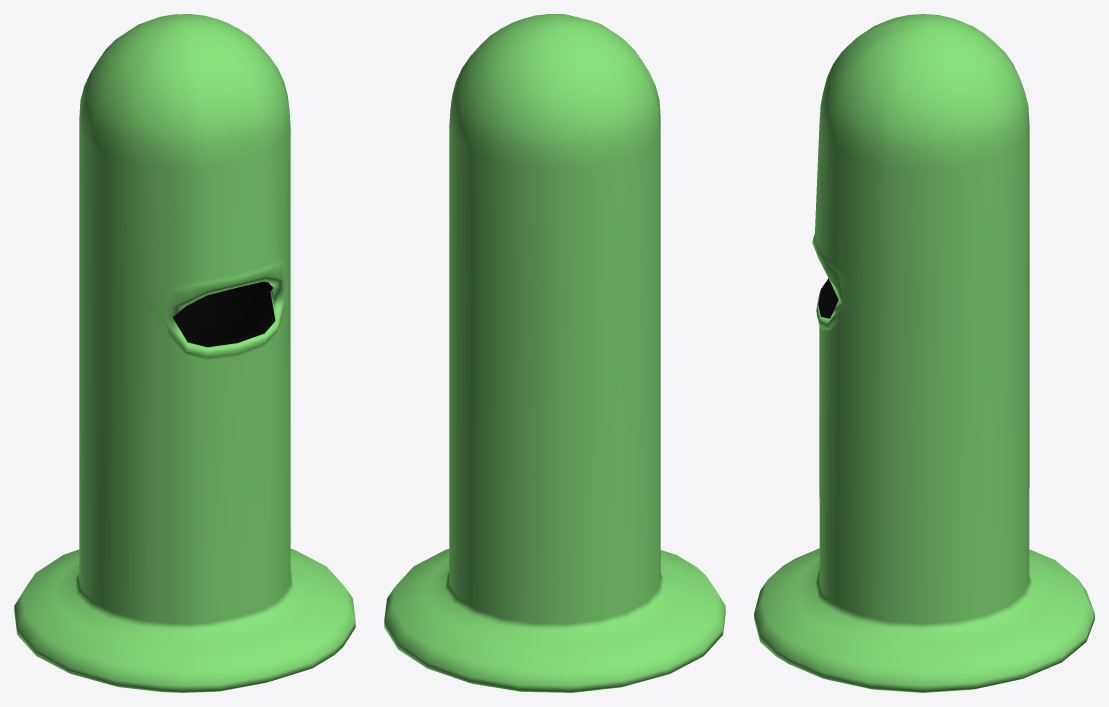
The model's file is Larry_the_blob.fbx.
The picture shows the model from 3 angles, left to right: view 1: azimuth 30°, elevation 25°; view 2: azimuth 150°, elevation 25°; view 3: azimuth 270°, elevation 25°; orthographic projection.
Parts seen in each view (by area): view 1: blobBody_neutral; view 2: blobBody_neutral; view 3: blobBody_neutral.
Part boxes in pixels (x1,y1,x2,y2): blobBody_neutral: [14, 14, 355, 692]; blobBody_neutral: [384, 14, 725, 692]; blobBody_neutral: [754, 14, 1094, 692].
Size of the model in its own units: 3.23 by 6.24 by 3.21.
